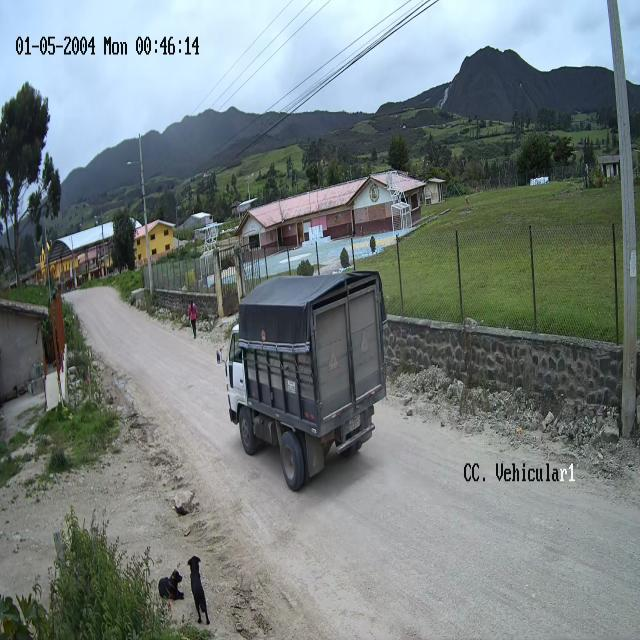TRUCK: (220, 270, 388, 492)
